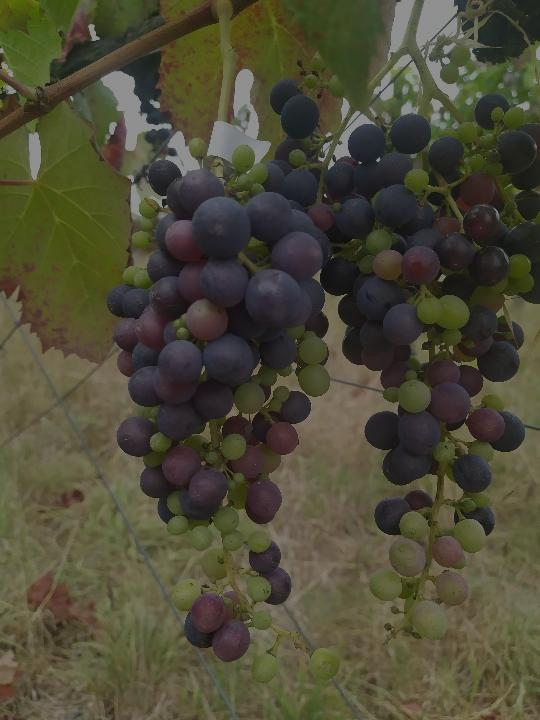grape: (269, 47, 538, 643), (104, 137, 344, 685)
